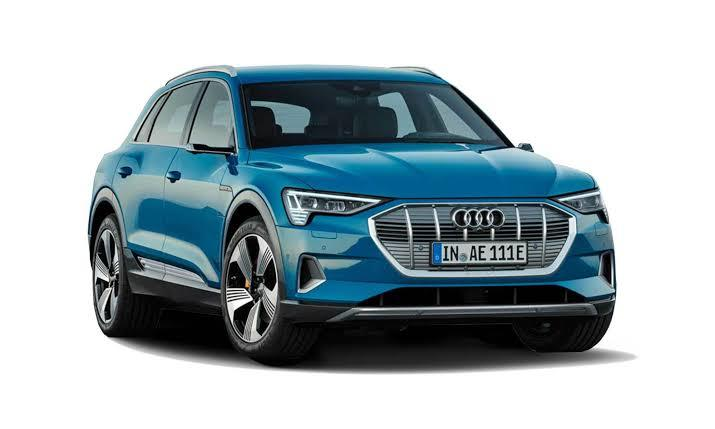audi: (73, 54, 627, 381)
